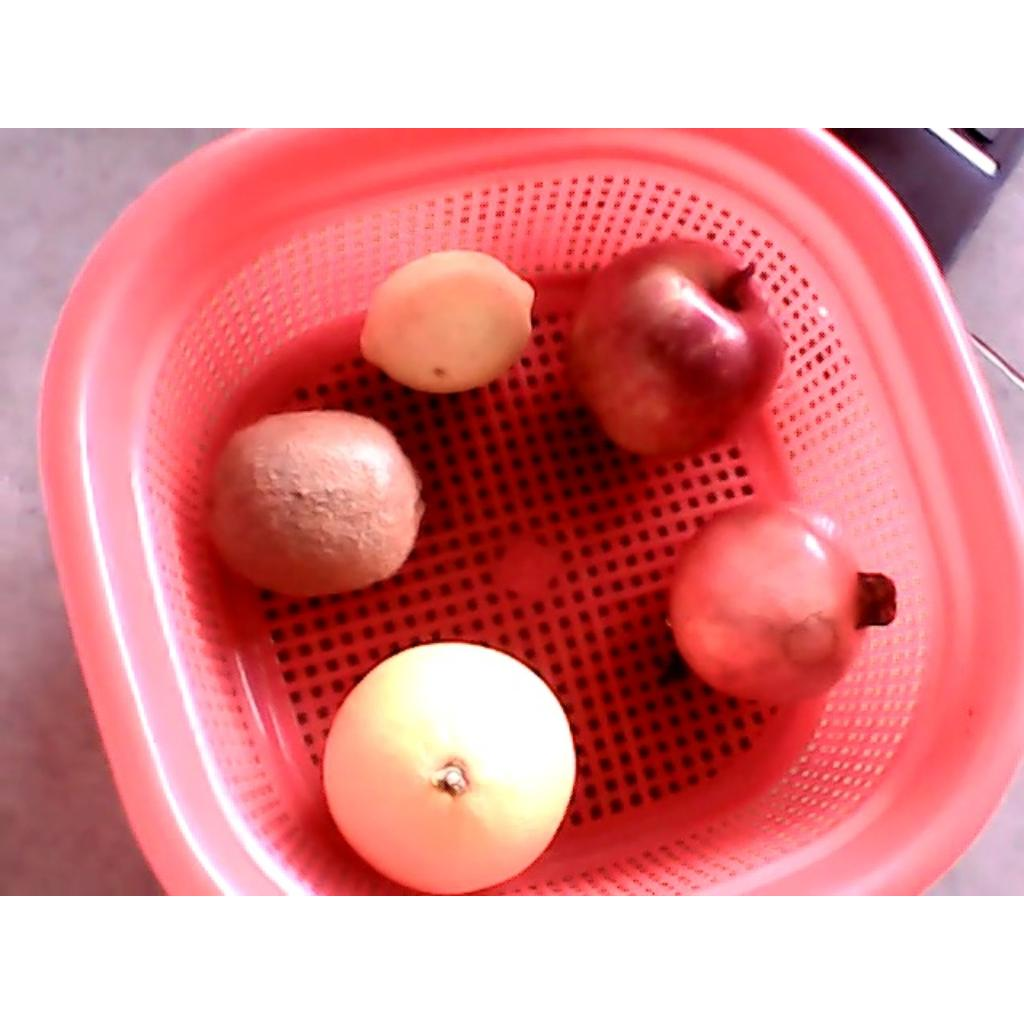apple: (562, 235, 788, 461)
kiwi: (202, 410, 423, 597)
lemon: (360, 249, 536, 393)
orange: (320, 643, 577, 894)
pomegranate: (667, 497, 898, 706)
